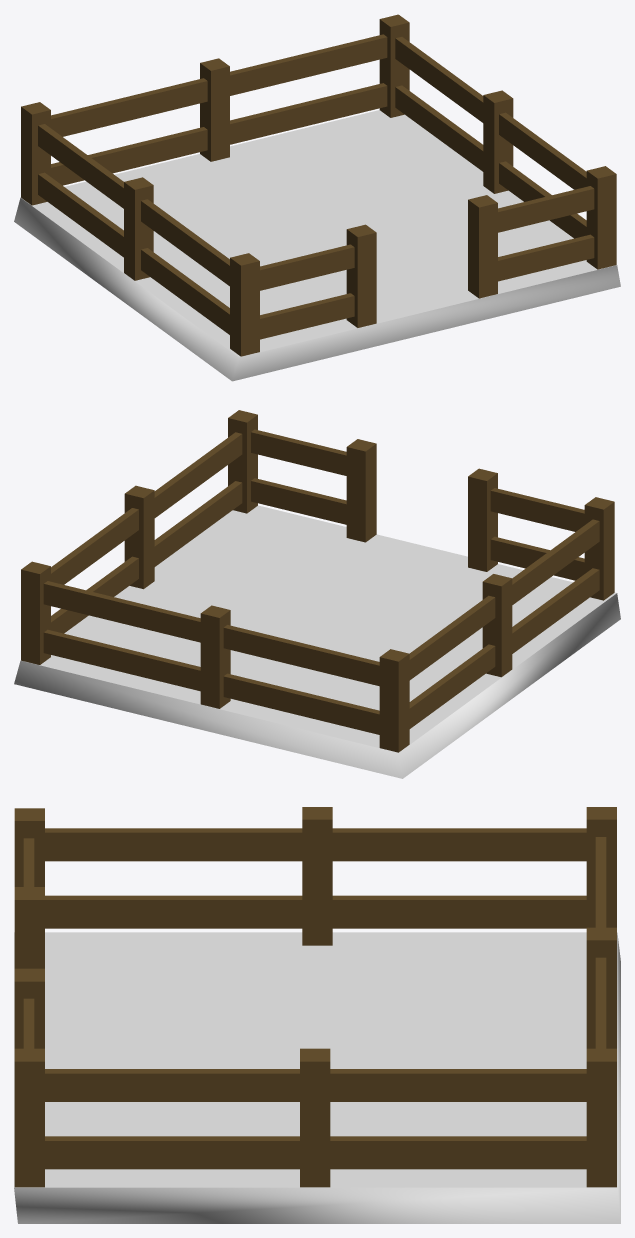
The model's file is citler.fbx.
3 views of the same model, one above another, from view 1: azimuth 30°, elevation 25°; view 2: azimuth 150°, elevation 25°; view 3: azimuth 270°, elevation 25° (orthographic). The views are drawn at different scales.
Parts seen in each view (by area): view 1: oduncu; view 2: oduncu; view 3: oduncu.
Part boxes in pixels (x1=…): oduncu: x1=14, y1=14, x2=620, y2=381; oduncu: x1=14, y1=410, x2=620, y2=778; oduncu: x1=14, y1=807, x2=620, y2=1223.
Size of the model in its own units: 6.8 by 1.92 by 6.65.
